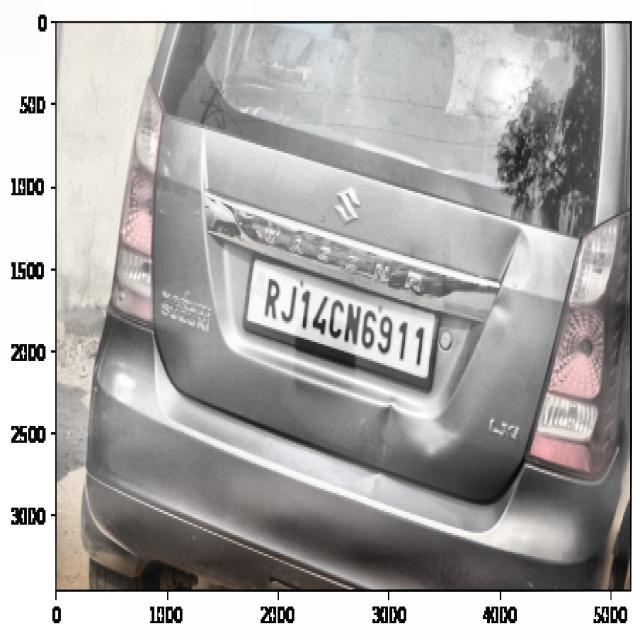license_plate: (259, 264, 431, 377)
